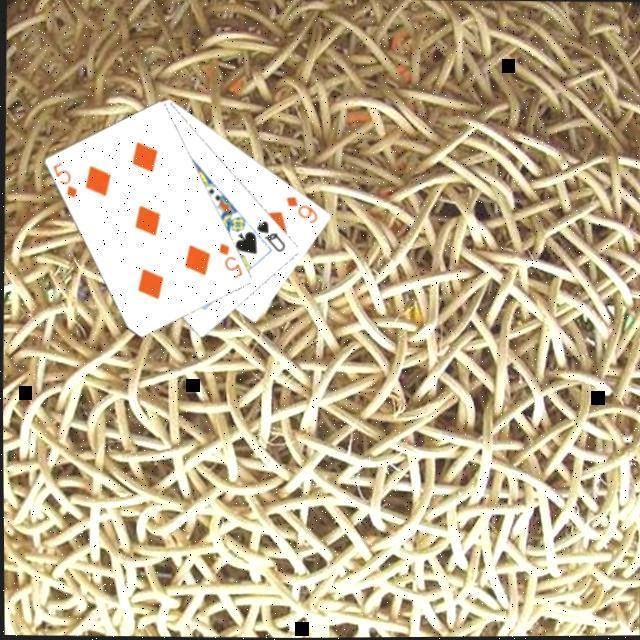5D: (49, 159, 82, 202), (216, 240, 247, 283)
6D: (282, 192, 322, 228)
QS: (253, 218, 290, 256)
